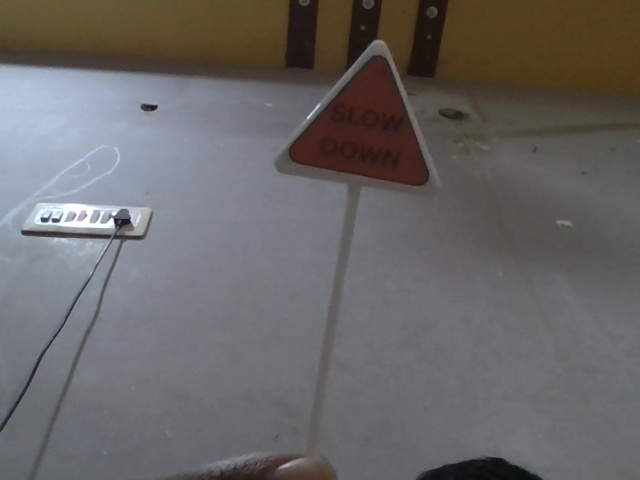slowdown: (268, 37, 444, 205)
